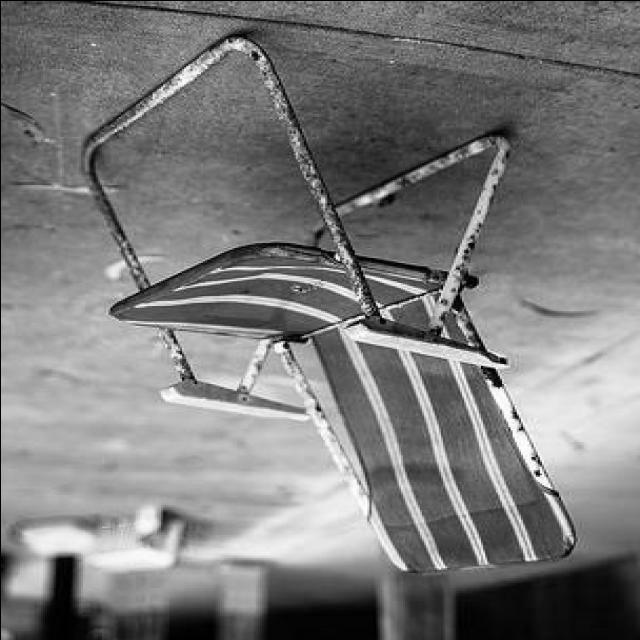chair: (77, 33, 578, 573)
